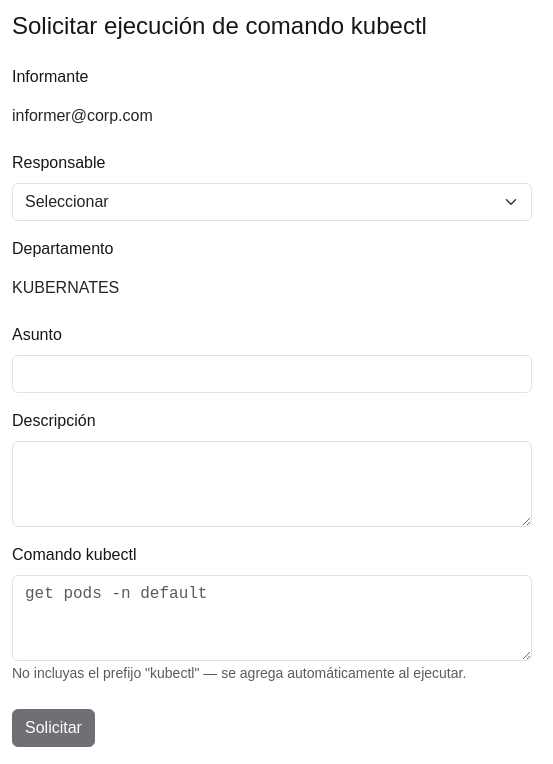
Test: KubectlCommandTicketForm › disables the submit button until the form is valid
Expected: the button "Solicitar" is disabled, x1=12 y1=709 x2=95 y2=747
Select "Ana" in the dropdown labelled "Responsable" at (272, 202), box x1=12 y1=183 x2=532 y2=221
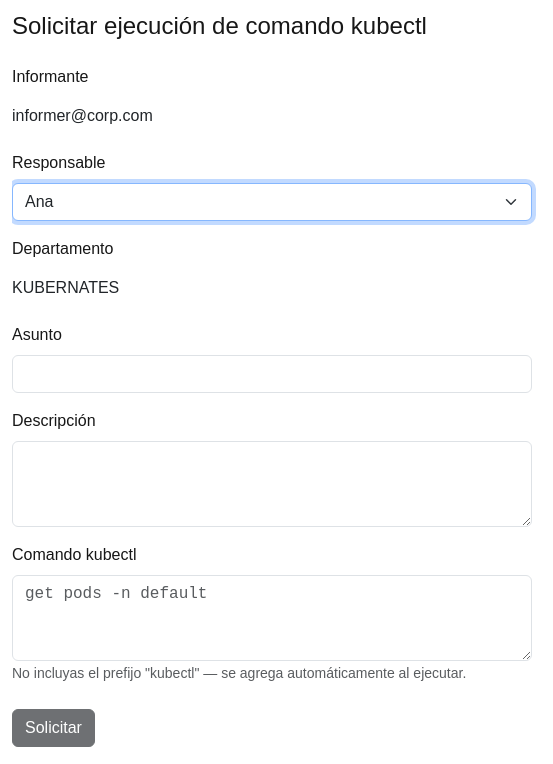
Type "Add index" into the field labelled "Asunto" at (272, 374), box x1=12 y1=355 x2=532 y2=393
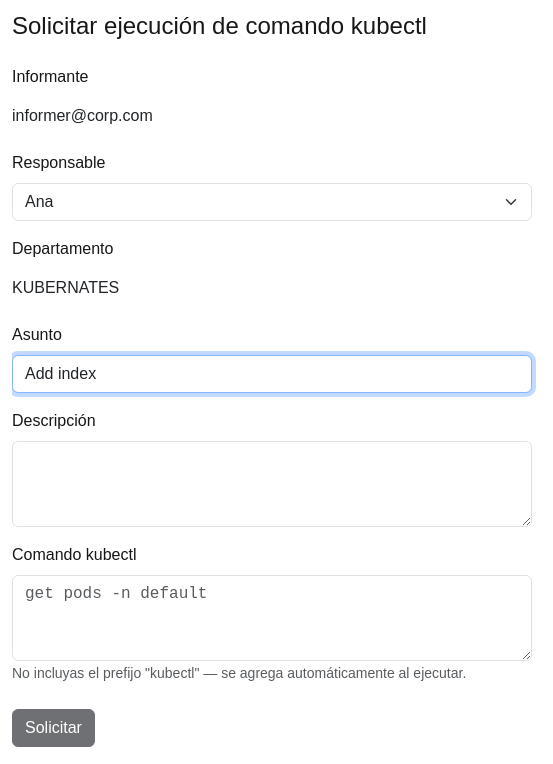
Type "Needs an index" into the text box labelled "Descripción" at (272, 484), box x1=12 y1=441 x2=532 y2=527
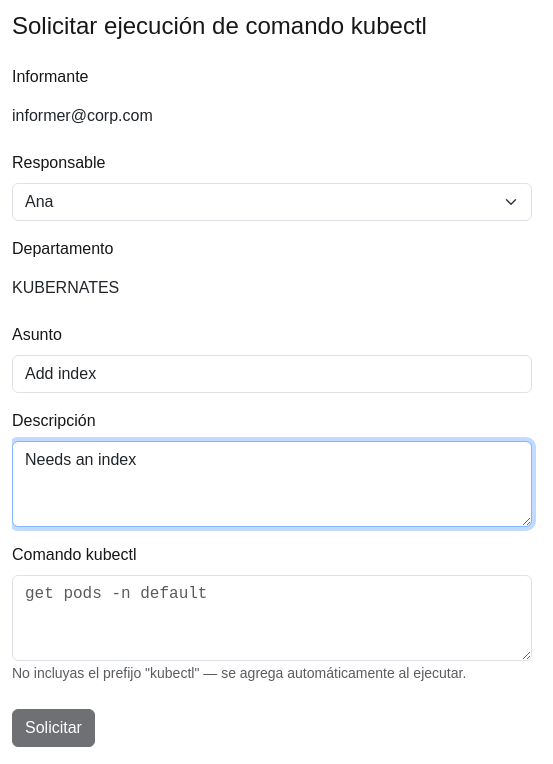
Type "get pods" into the text box labelled "Comando kubectl" at (272, 618), box x1=12 y1=575 x2=532 y2=661
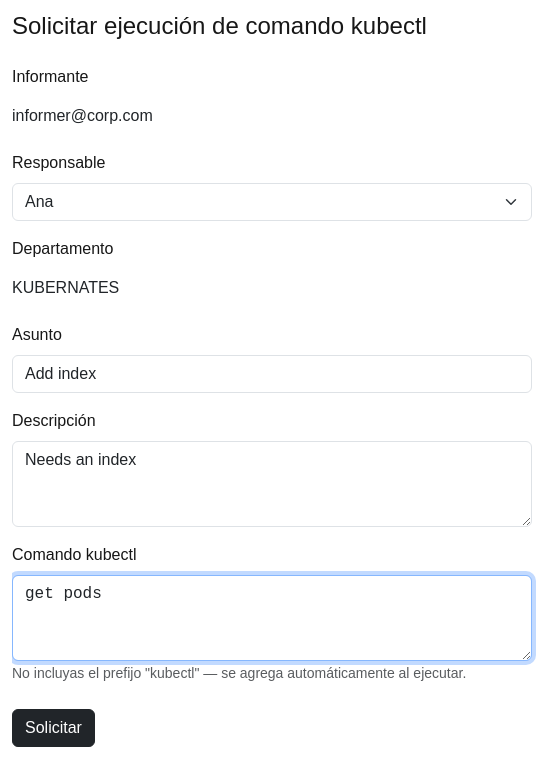
Now the button "Solicitar" is enabled, box x1=12 y1=709 x2=95 y2=747
